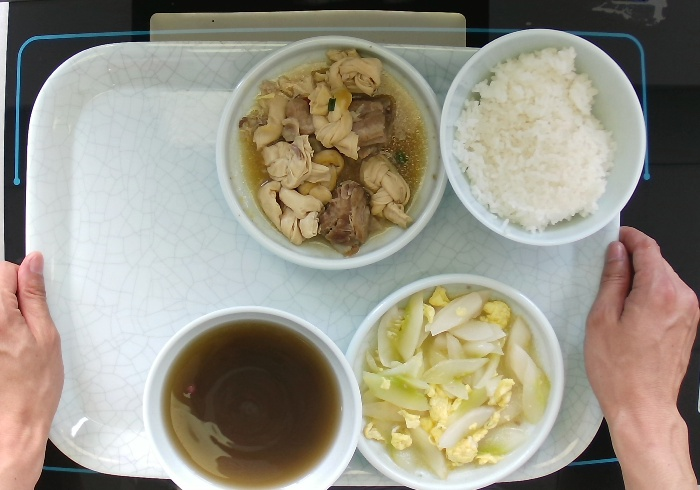JYsf-Fan_Wan: (438, 26, 649, 247), (140, 302, 364, 490)
JYsf-Xiao_Yuan_Pan: (213, 33, 449, 271), (343, 270, 567, 490)
